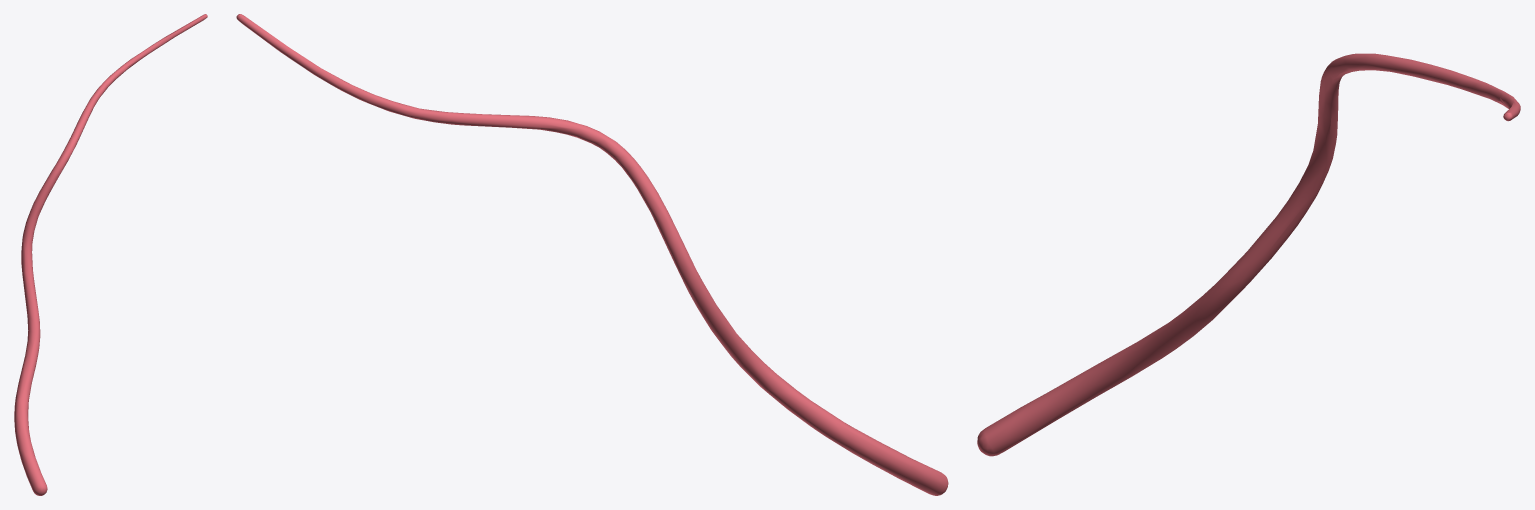
The model's file is fma50483_fj5038.glb.
3 renders of one model, left to right at view 1: azimuth 30°, elevation 25°; view 2: azimuth 150°, elevation 25°; view 3: azimuth 270°, elevation 25°, orthographic. The views are drawn at different scales.
Visible parts, largest first — view 1: FMA50483_FJ5038; view 2: FMA50483_FJ5038; view 3: FMA50483_FJ5038.
Boxes of the visible parts, left/top/right/bottom form: FMA50483_FJ5038: left=14, top=14, right=207, bottom=495; FMA50483_FJ5038: left=236, top=14, right=948, bottom=495; FMA50483_FJ5038: left=977, top=53, right=1520, bottom=456.
Bounding box in the file's own units: 0.0345 × 0.0343 × 0.0268.
